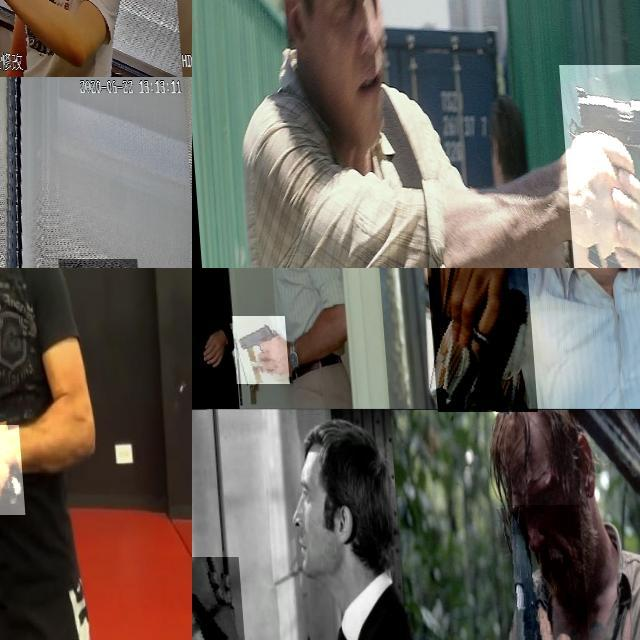-: (0, 425, 53, 514)
gun-knife-thesis - v11 Yolov5 augmented: (555, 64, 640, 268), (423, 268, 532, 411), (491, 505, 585, 640), (192, 557, 240, 640), (228, 316, 285, 384), (0, 0, 27, 68)
